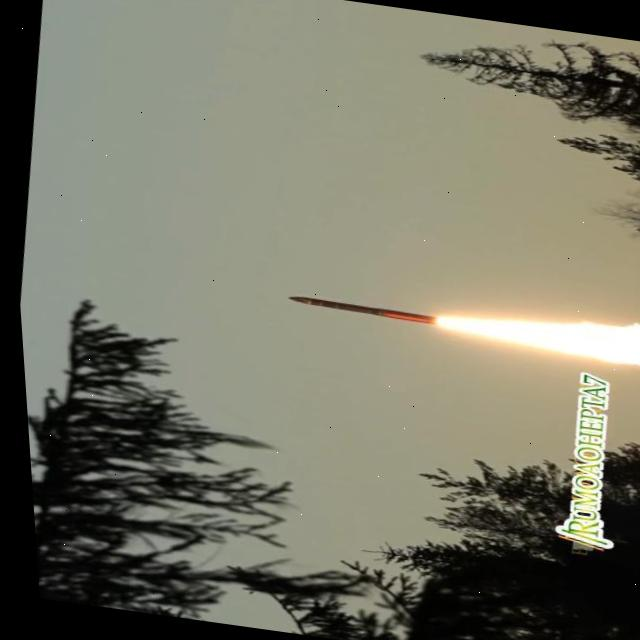missile: (281, 292, 434, 331)
